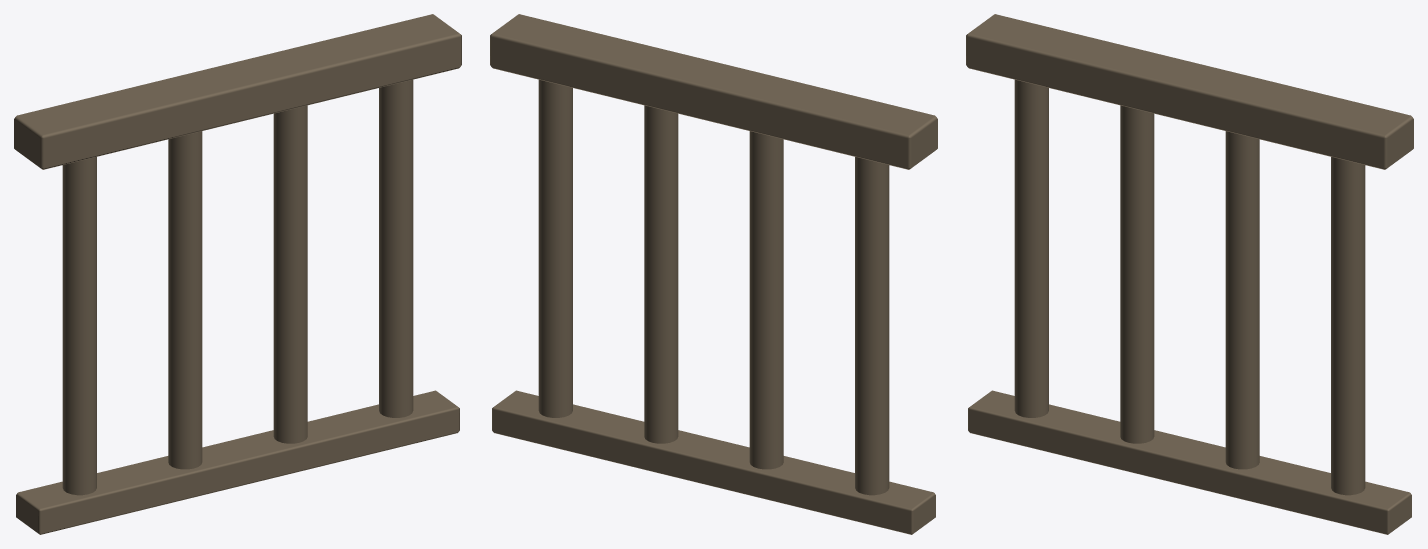
File: ghost-town-railing.c35a9e46.glb
3 renders of one model, left to right at view 1: azimuth 30°, elevation 25°; view 2: azimuth 150°, elevation 25°; view 3: azimuth 330°, elevation 25°, orthographic.
Visible parts, largest first — view 1: body; view 2: body; view 3: body.
Boxes of the visible parts, x1,y1,x2,y2 form: body: (14, 14, 461, 534); body: (490, 14, 937, 534); body: (966, 14, 1413, 534).
Bounding box in the file's own units: 1 × 0.91 × 0.12.
